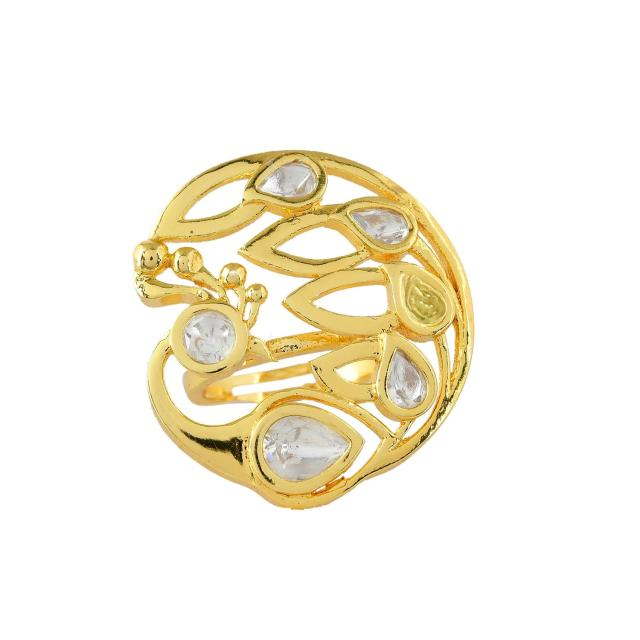missing gem: (399, 271, 448, 328)
